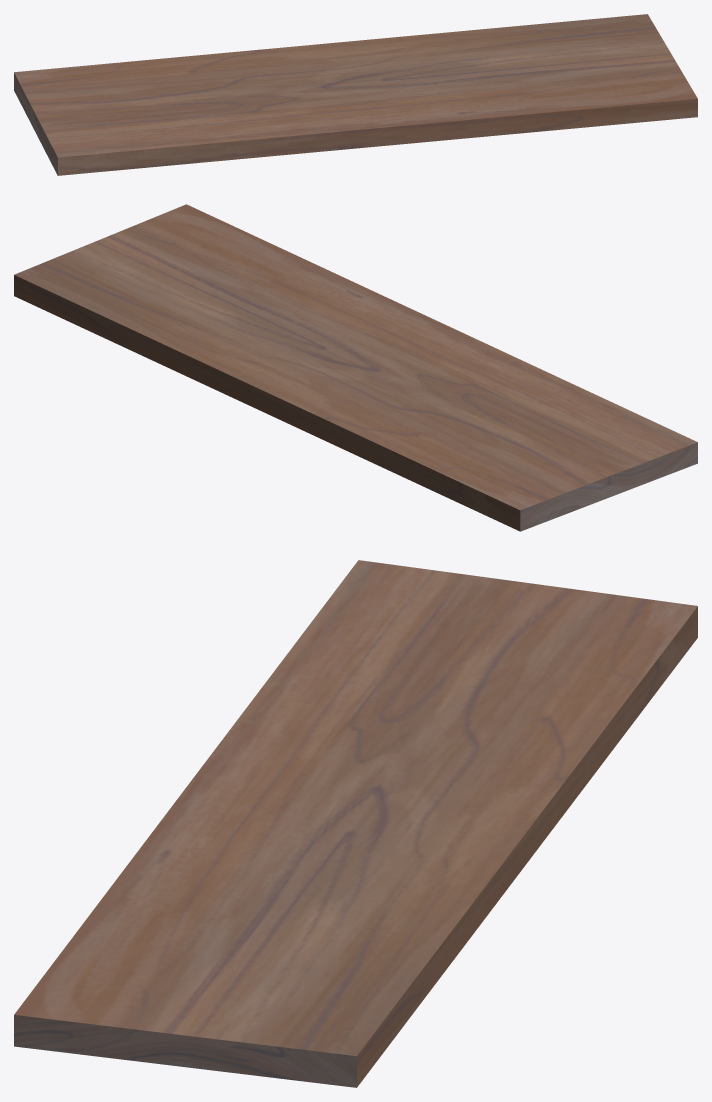
Rendered from plank_061.fbx.
3 views of the same model, one above another, from view 1: azimuth 30°, elevation 25°; view 2: azimuth 150°, elevation 25°; view 3: azimuth 270°, elevation 25° (orthographic). The views are drawn at different scales.
Visible parts, largest first — view 1: plank.061; view 2: plank.061; view 3: plank.061.
Boxes of the visible parts, x1,y1,x2,y2 form: plank.061: [14, 14, 697, 175]; plank.061: [14, 204, 697, 531]; plank.061: [14, 560, 697, 1087].
Bounding box in the file's own units: 33.47 × 0.9957 × 19.5.
